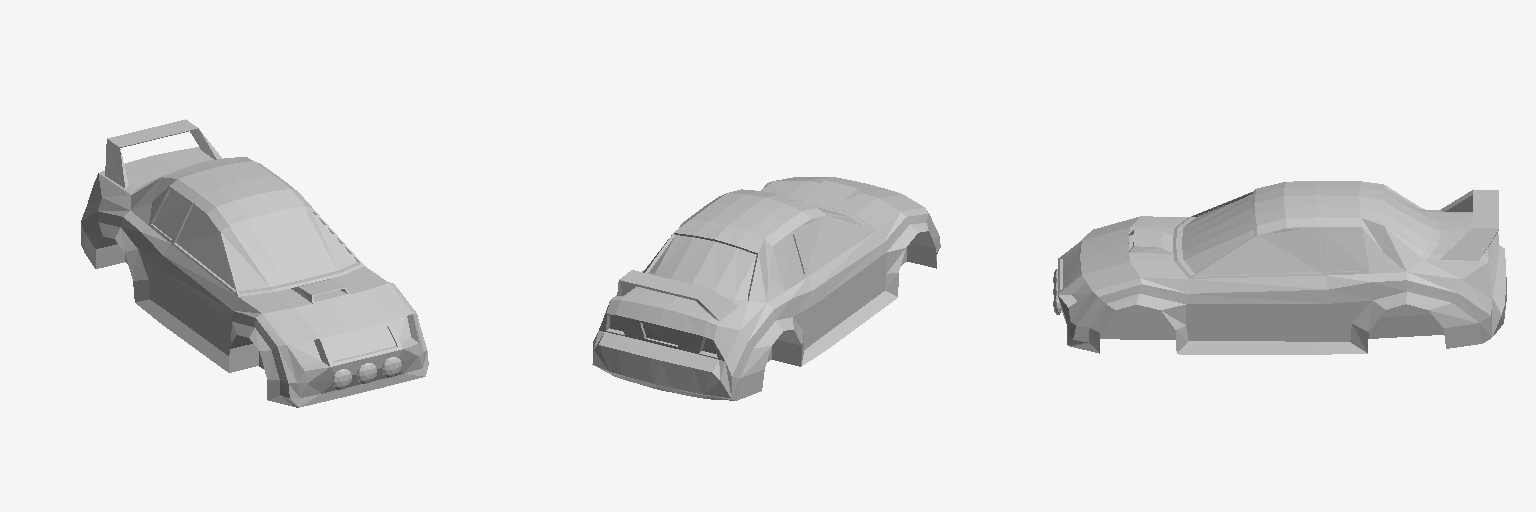
Rendered from impreza.obj.
The picture shows the model from 3 angles: view 1: azimuth 30°, elevation 25°; view 2: azimuth 150°, elevation 25°; view 3: azimuth 270°, elevation 25°; orthographic projection.
Visible parts, largest first — view 1: Body_Mesh_17; view 2: Body_Mesh_17; view 3: Body_Mesh_17.
Part boxes in pixels (left/top/right/bottom): Body_Mesh_17: left=81, top=119, right=428, bottom=407; Body_Mesh_17: left=592, top=177, right=940, bottom=400; Body_Mesh_17: left=1053, top=181, right=1506, bottom=354.
Size of the model in its own units: 1.77 by 1.31 by 4.42.